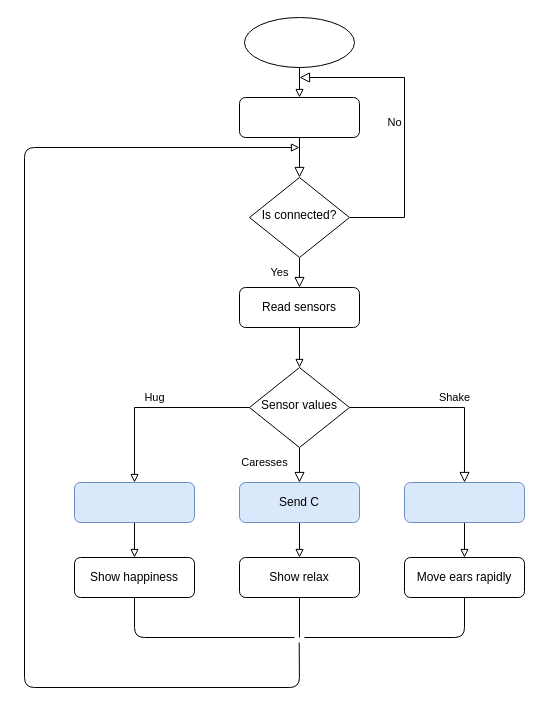
This 542x713 diagram has some shape labels left out. Here are the shapes that lost their labels. From the top down, the centre of each, then its label:
At point (299, 42): "START".
At point (299, 117): "Connection and sad expression".
At point (134, 502): "Send H".
At point (464, 502): "Send S".
